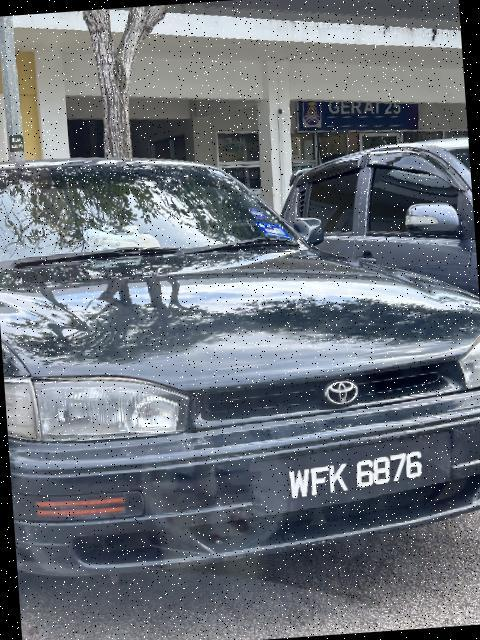License_Plate: (243, 429, 455, 513)
WFK6876: (243, 429, 455, 513)
